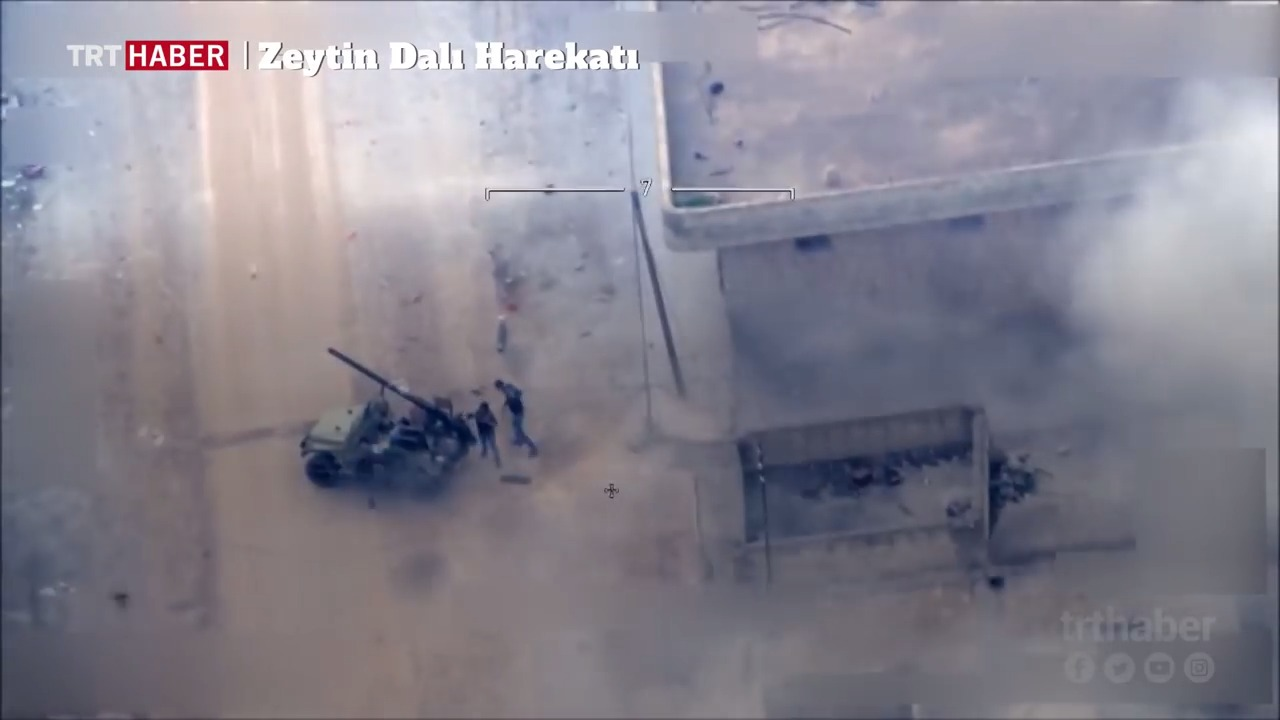arac: (286, 336, 475, 498)
insan: (493, 373, 543, 465), (466, 390, 498, 461)
